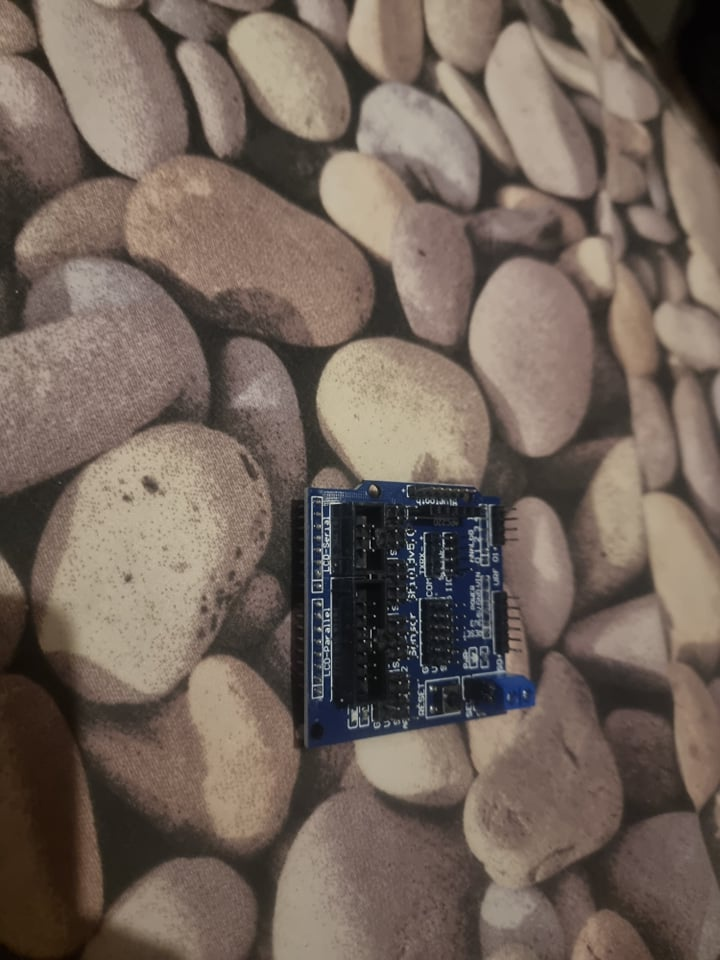5V EXPANSION: (298, 479, 534, 750)
